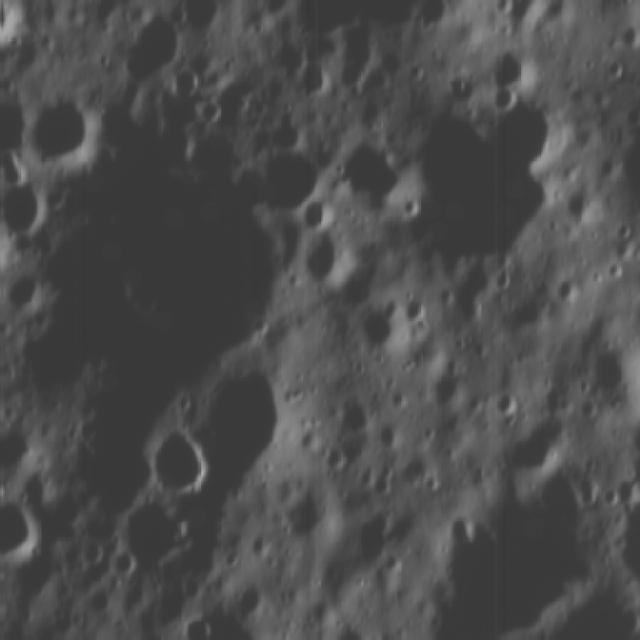crater: (404, 89, 571, 263), (432, 469, 588, 640), (19, 80, 103, 177), (110, 5, 188, 93), (118, 492, 190, 582), (150, 412, 216, 499), (335, 133, 407, 210), (275, 471, 339, 544), (298, 218, 360, 288), (350, 502, 412, 568), (482, 41, 538, 96), (2, 491, 41, 569), (1, 174, 44, 243), (356, 302, 407, 358), (618, 473, 640, 589), (3, 263, 52, 315), (294, 186, 334, 229), (228, 578, 268, 618), (430, 370, 468, 412), (334, 396, 372, 436), (487, 385, 522, 423), (400, 288, 431, 327), (486, 83, 516, 115)
